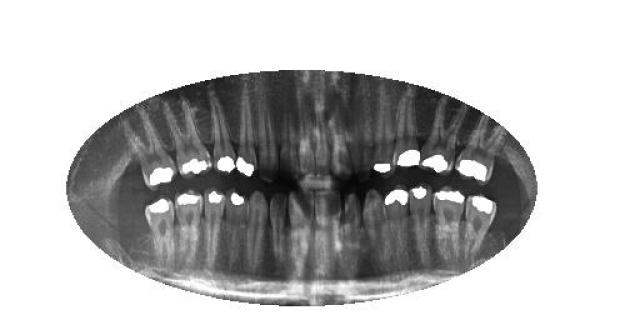Fillings: (120, 108, 175, 188), (162, 95, 212, 179), (422, 94, 468, 175), (460, 115, 506, 185), (209, 82, 236, 176), (462, 194, 498, 261), (434, 188, 464, 262), (145, 198, 176, 268), (384, 186, 411, 264), (175, 190, 203, 262), (408, 186, 433, 264), (398, 89, 420, 172), (226, 186, 248, 265), (204, 190, 226, 266), (375, 110, 394, 176), (239, 115, 256, 179)
